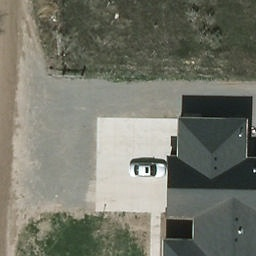car: (130, 163, 167, 178)
